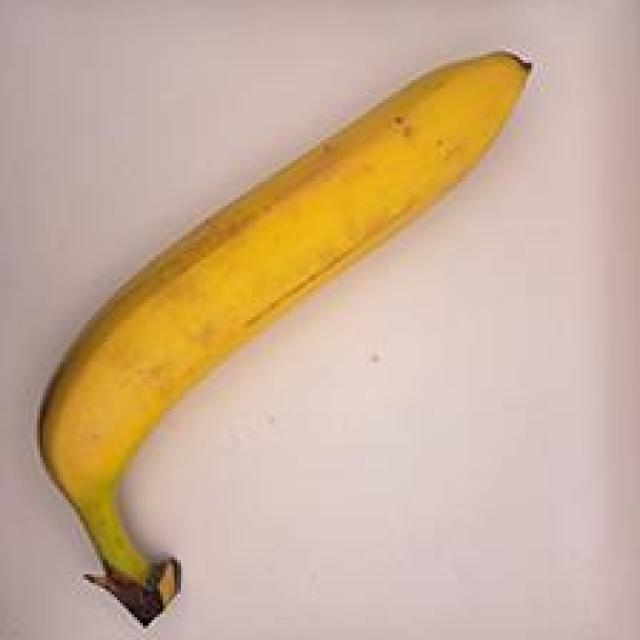Ripe: (2, 31, 566, 640)
